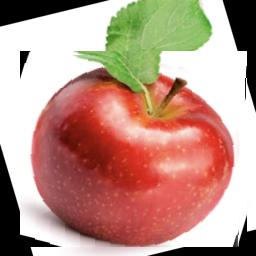Apple Fresh: (21, 51, 248, 247)
